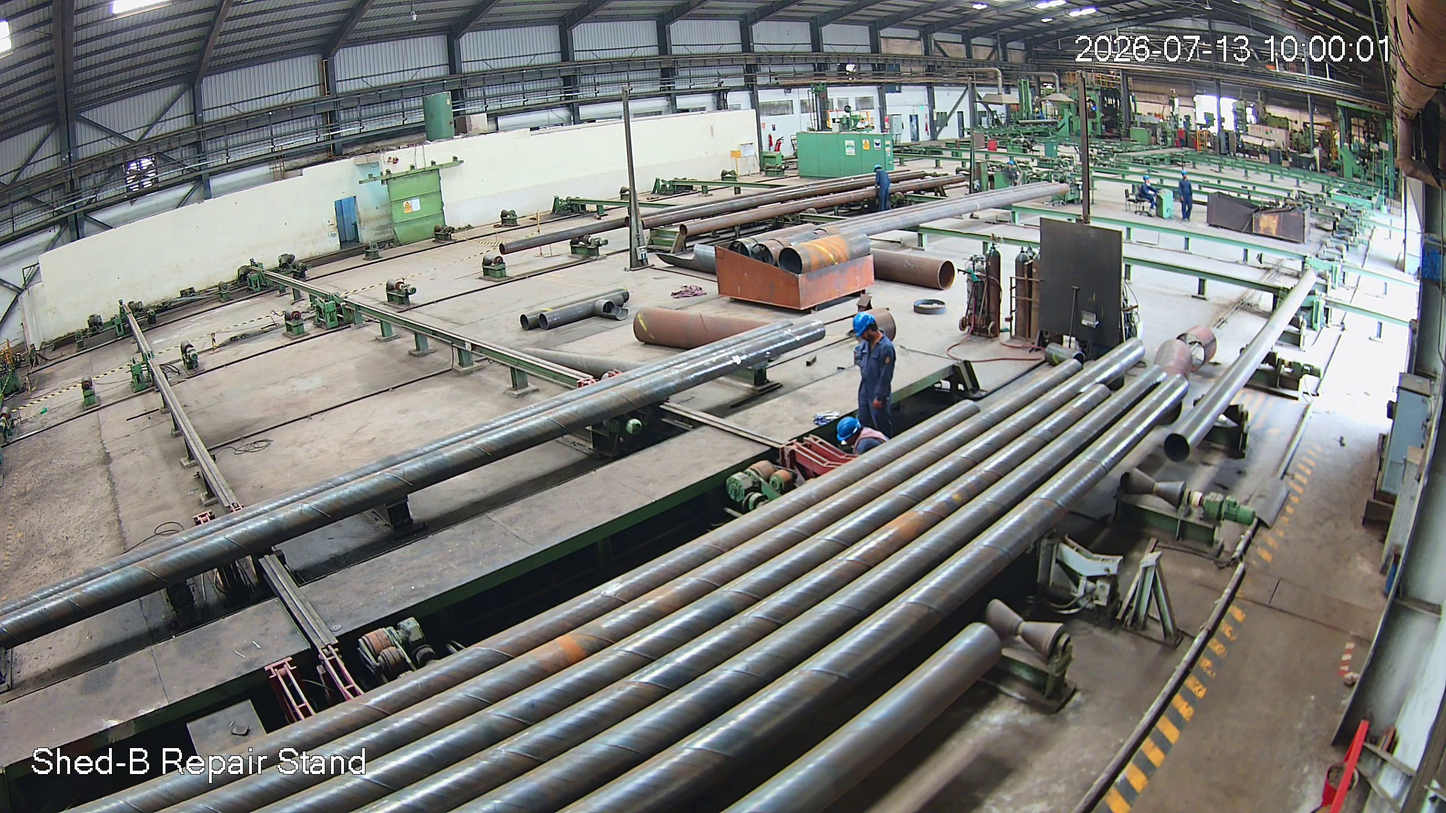Helmet: (851, 312, 884, 352), (835, 414, 865, 449)
Person: (848, 313, 899, 436), (835, 416, 896, 457)
